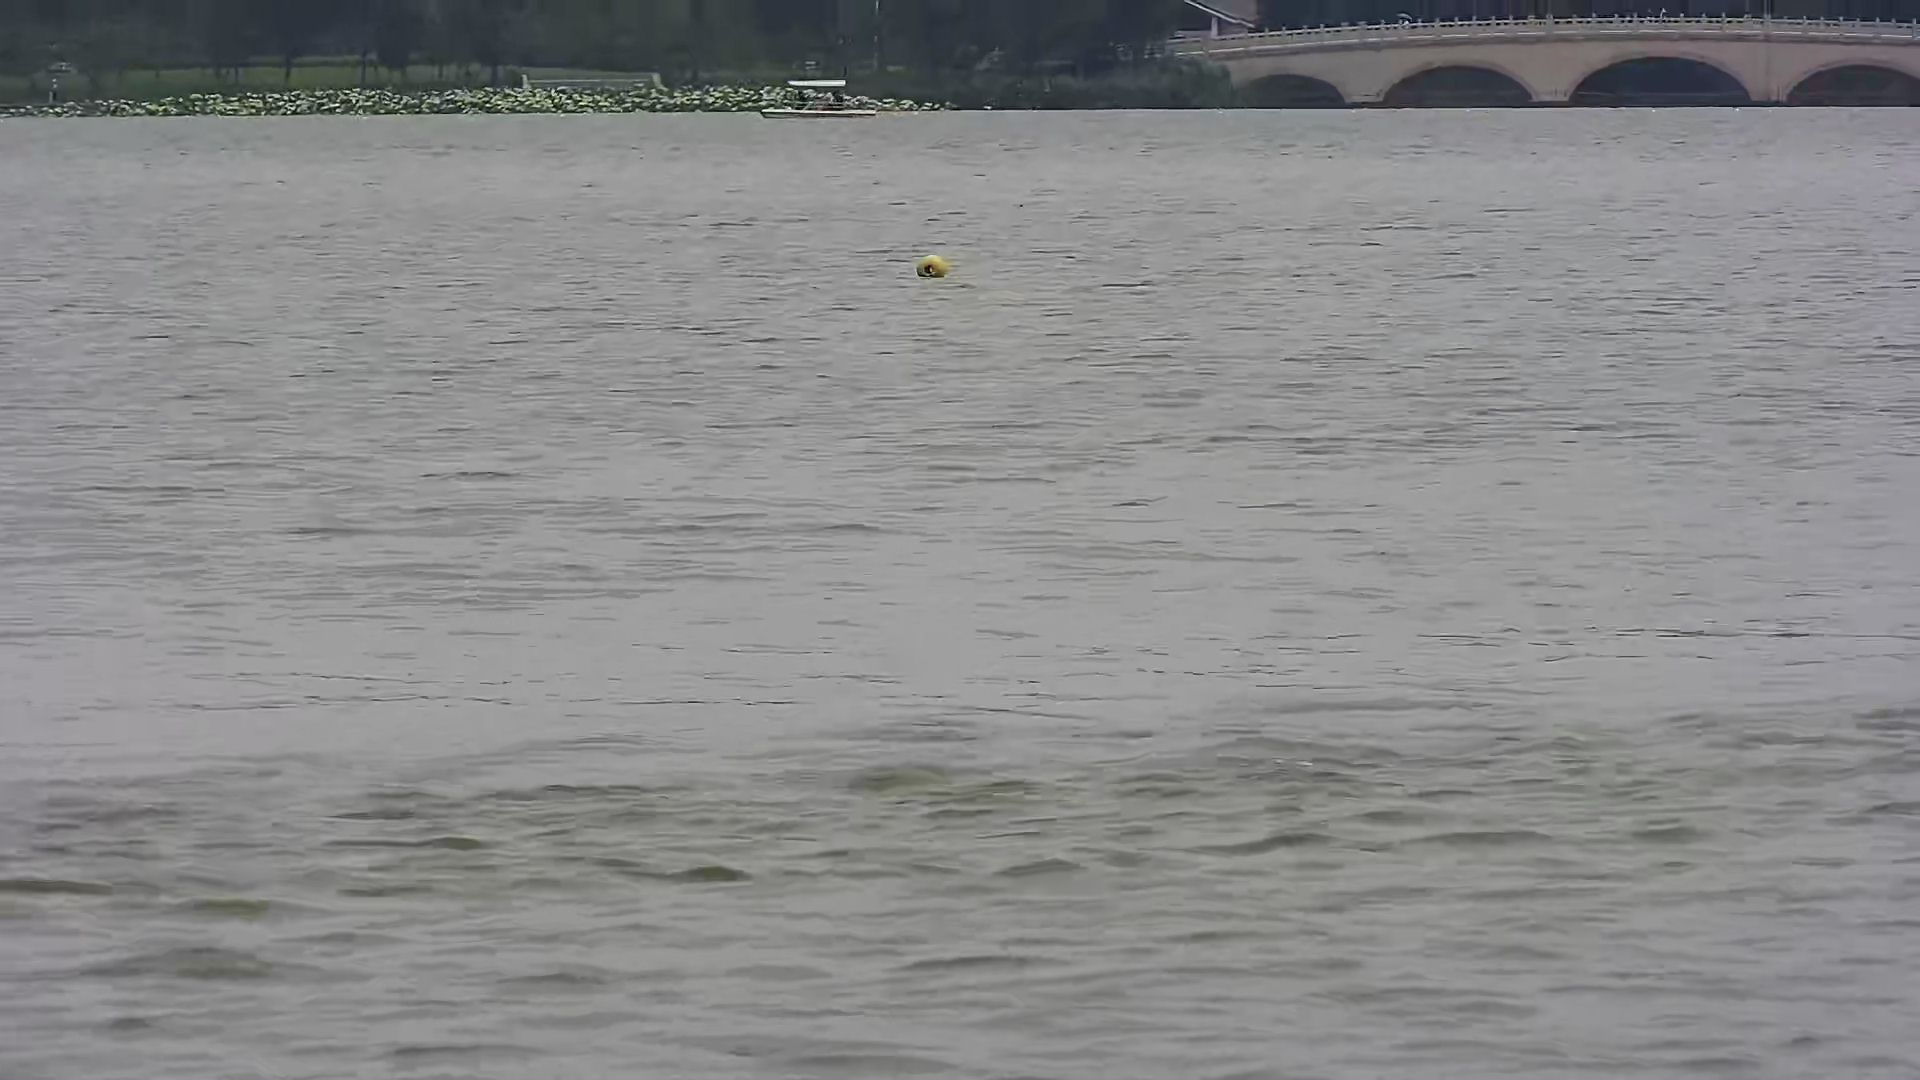boat: (764, 73, 877, 123)
bridge: (1118, 11, 1913, 117)
rubbish: (910, 252, 949, 280)
